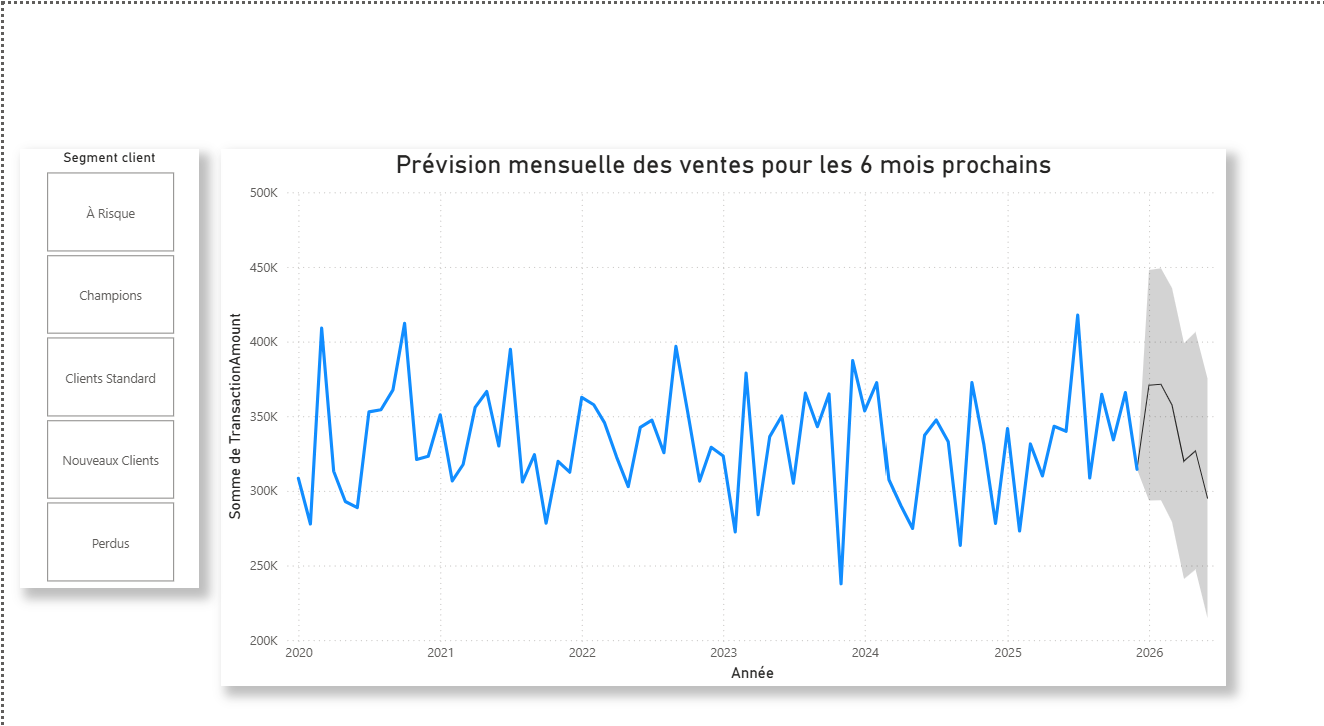

The dashboard page shown, as its layout file describes it:
{"tool":"powerbi","page":{"name":"Previsions","canvas":[1280,720],"ordinal":4},"visuals":[{"type":"lineChart","title":"Prévision mensuelle des ventes pour les 6 mois prochains ","fields":{"Category":["FactTransaction.Date_new.Variation.Hiérarchie de dates.Année","FactTransaction.Date_new.Variation.Hiérarchie de dates.Mois"],"Y":["Sum(FactTransaction.TransactionAmount)"]},"box":[206.2,138.8,956.5,510.9],"z":0},{"type":"slicer","title":"Segment client","fields":{"Values":["Table_RFM.Segment_Client"]},"box":[15.1,138.8,171,418.4],"z":1000}]}

Visuals, with their boxes in screenshot pixels (x1, y1, x2, y2), scaled from the page's 1280x720 canvas onto the 1324x726 screenshot:
"Prévision mensuelle des ventes pour les 6 mois prochains " lineChart: BBox(213, 140, 1203, 655)
"Segment client" slicer: BBox(16, 140, 192, 562)
